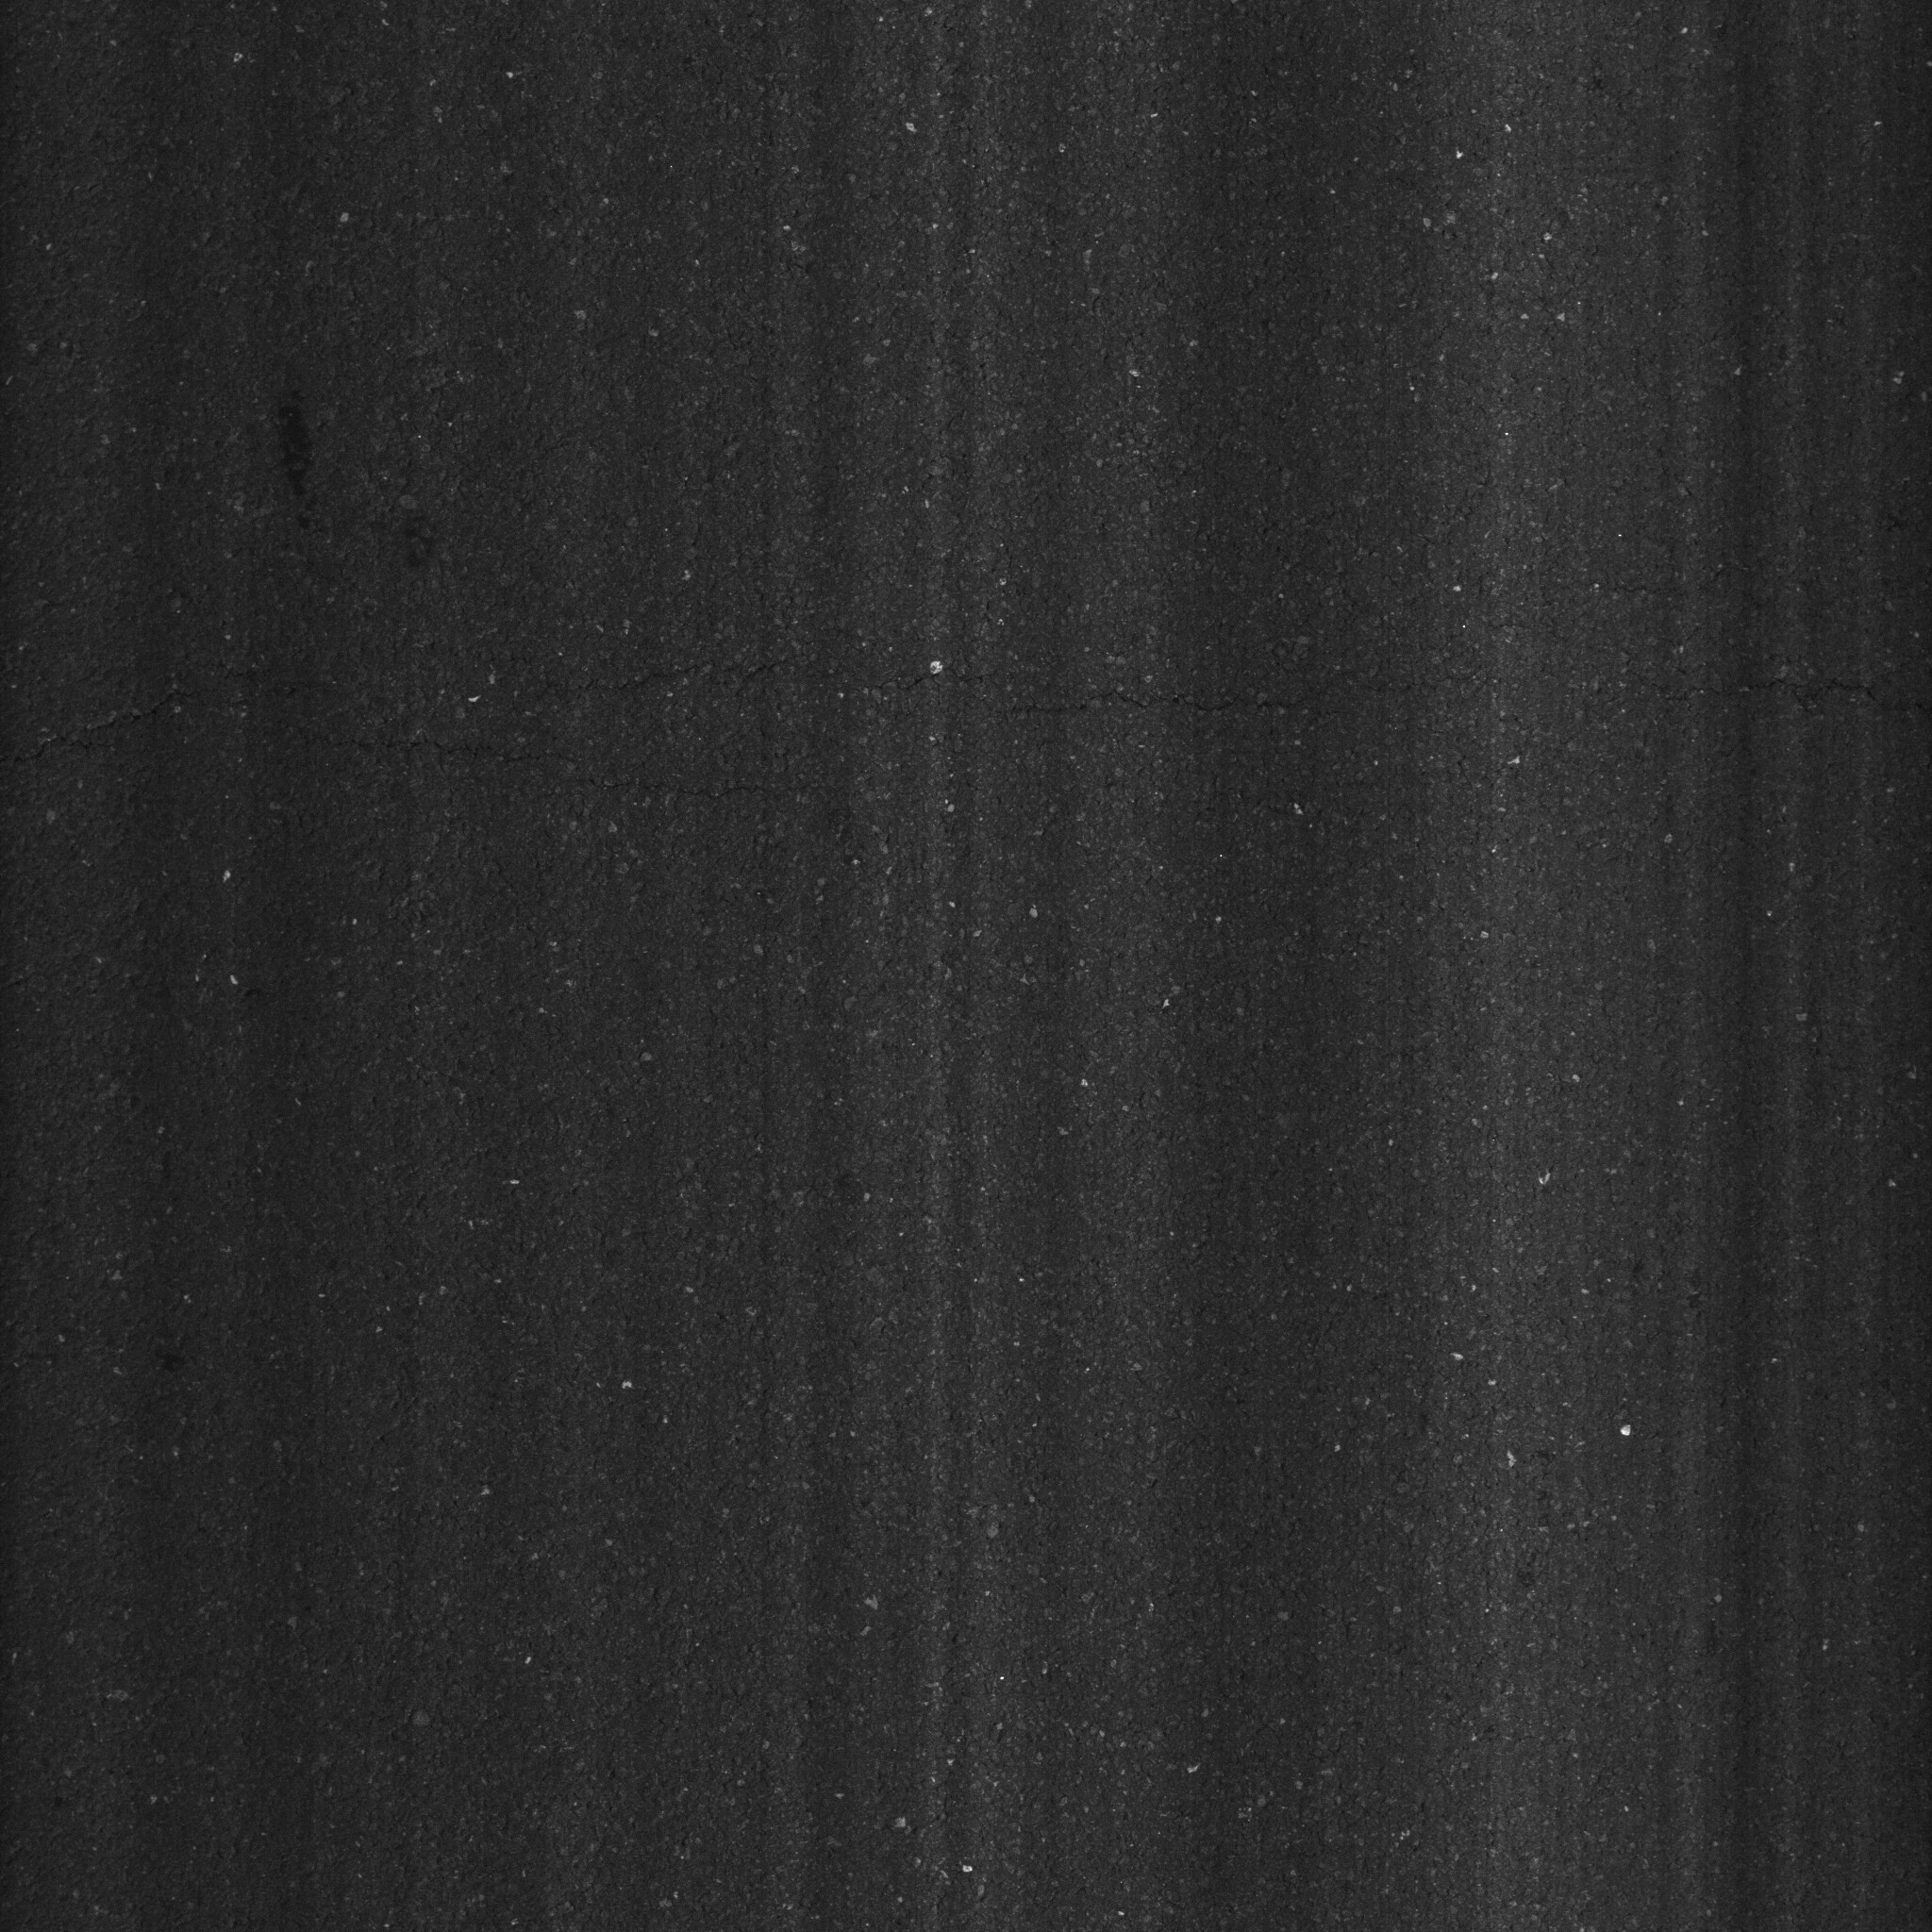transeverse: (27, 637, 1925, 823)
